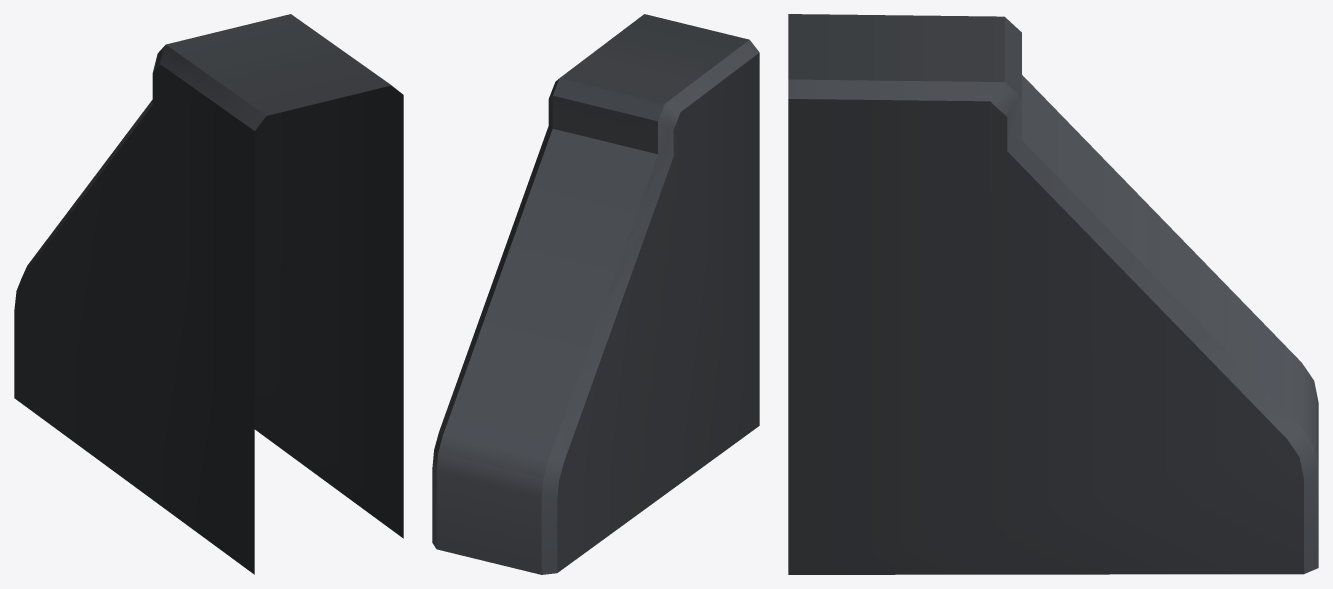
File: Pillar Feet 01.FBX
3 views of the same model, side by side, from view 1: azimuth 30°, elevation 25°; view 2: azimuth 150°, elevation 25°; view 3: azimuth 270°, elevation 25° (orthographic). The views are drawn at different scales.
Parts seen in each view (by area): view 1: Pillar Feet 01; view 2: Pillar Feet 01; view 3: Pillar Feet 01.
Part boxes in pixels (left/top/right/bottom): Pillar Feet 01: left=14, top=14, right=403, bottom=574; Pillar Feet 01: left=432, top=14, right=759, bottom=574; Pillar Feet 01: left=788, top=14, right=1318, bottom=574.
Bounding box in the file's own units: 25.61 × 75.03 × 73.72.
